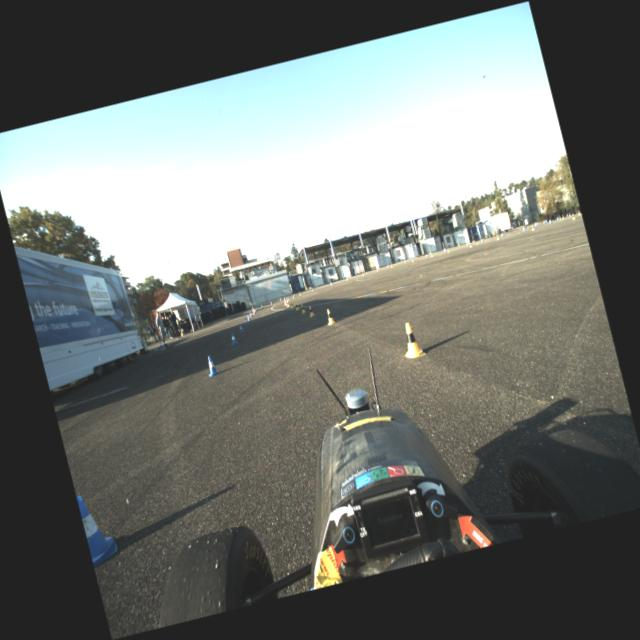blue_cone: (76, 490, 119, 566), (203, 354, 220, 376), (228, 332, 238, 344), (238, 323, 245, 333), (158, 340, 162, 348), (244, 317, 248, 324), (499, 232, 504, 237), (548, 218, 552, 224), (247, 313, 250, 320), (522, 226, 526, 231), (249, 311, 252, 317), (424, 253, 428, 257), (443, 247, 446, 252), (466, 241, 469, 246), (253, 308, 256, 312), (255, 306, 258, 310), (481, 238, 484, 242), (261, 304, 263, 308), (270, 300, 272, 304), (279, 297, 281, 301), (346, 276, 348, 280), (386, 264, 388, 268), (534, 222, 536, 226), (536, 221, 538, 225), (556, 216, 558, 220), (190, 314, 192, 318), (366, 271, 368, 274), (543, 220, 545, 223), (566, 213, 568, 216), (293, 293, 295, 296), (404, 260, 406, 262), (545, 220, 547, 222)
large_orange_cone: (250, 306, 256, 314), (282, 296, 286, 304)
yellow_cone: (397, 320, 426, 360), (324, 308, 335, 324), (307, 304, 315, 316), (300, 304, 306, 312), (570, 213, 576, 219), (294, 303, 298, 310), (496, 233, 500, 240), (290, 302, 294, 308), (286, 300, 290, 306), (530, 224, 534, 230), (180, 329, 183, 336), (468, 242, 472, 247), (446, 248, 450, 252), (285, 297, 288, 302), (577, 210, 580, 214), (430, 252, 433, 256), (284, 300, 286, 306), (568, 212, 570, 216), (561, 214, 563, 218), (558, 215, 560, 219), (411, 258, 413, 262), (390, 263, 392, 267), (361, 272, 363, 276), (312, 287, 314, 291), (298, 292, 300, 296), (292, 294, 294, 298), (287, 296, 289, 300), (196, 316, 198, 320), (346, 277, 348, 281), (376, 268, 378, 271), (330, 282, 332, 285)
